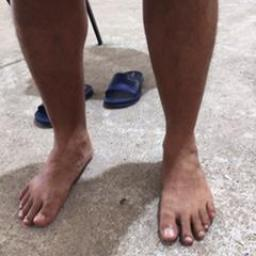Front View -Both Feet-: (12, 102, 227, 248)
